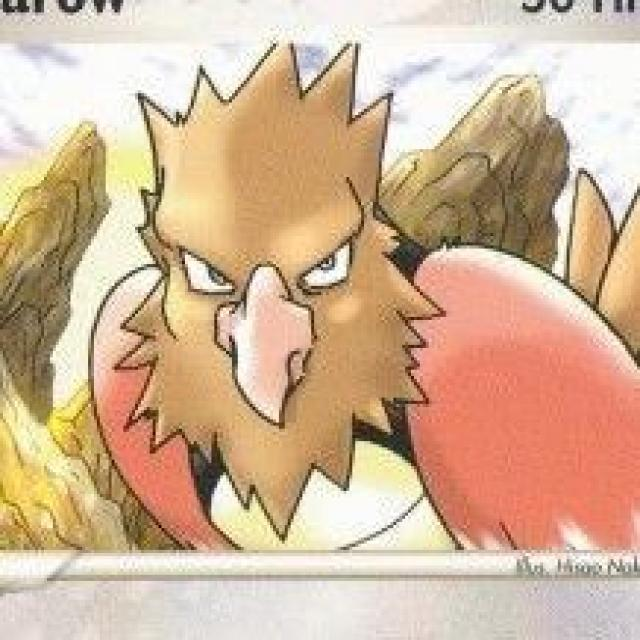Spearow: (121, 48, 528, 555)
